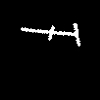double_crochet: (21, 23, 79, 45)
